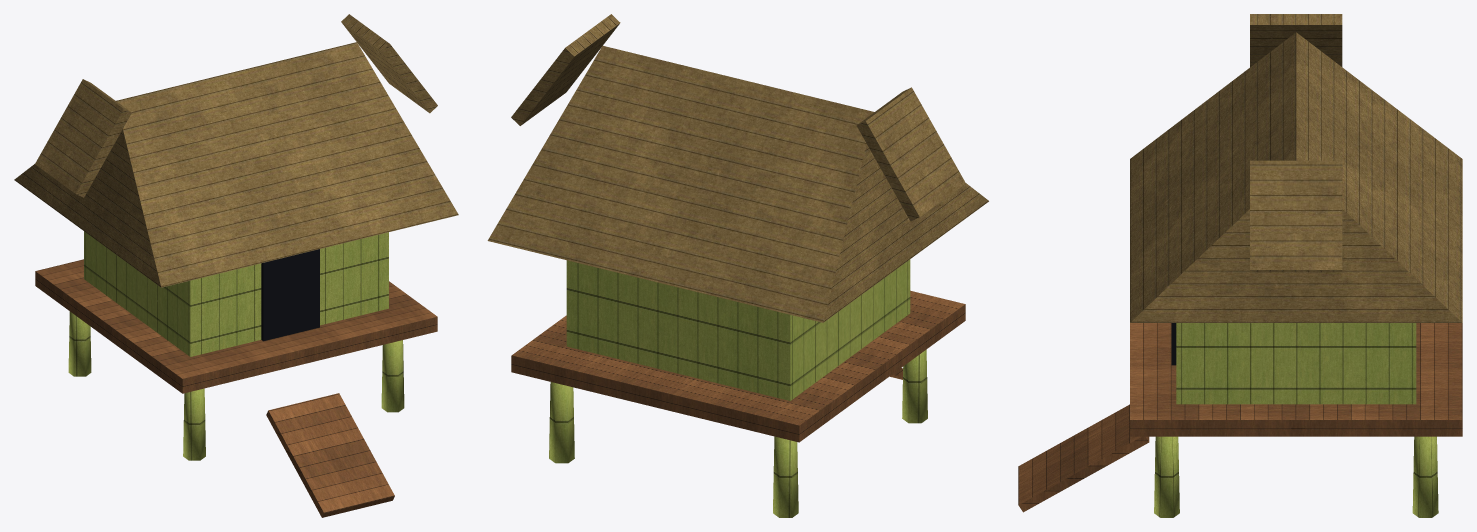
File: house_sunda.glb
3 views of the same model, side by side, from view 1: azimuth 30°, elevation 25°; view 2: azimuth 150°, elevation 25°; view 3: azimuth 270°, elevation 25° (orthographic). The views are drawn at different scales.
Parts seen in each view (by area): view 1: house_sunda; view 2: house_sunda; view 3: house_sunda.
Part boxes in pixels (bbox=[...]): house_sunda: bbox=[14, 14, 458, 517]; house_sunda: bbox=[487, 14, 988, 517]; house_sunda: bbox=[1018, 14, 1462, 517].
Bounding box in the file's own units: 2.56 × 2.42 × 2.4.
Materials: 4 (3 with a texture image).
